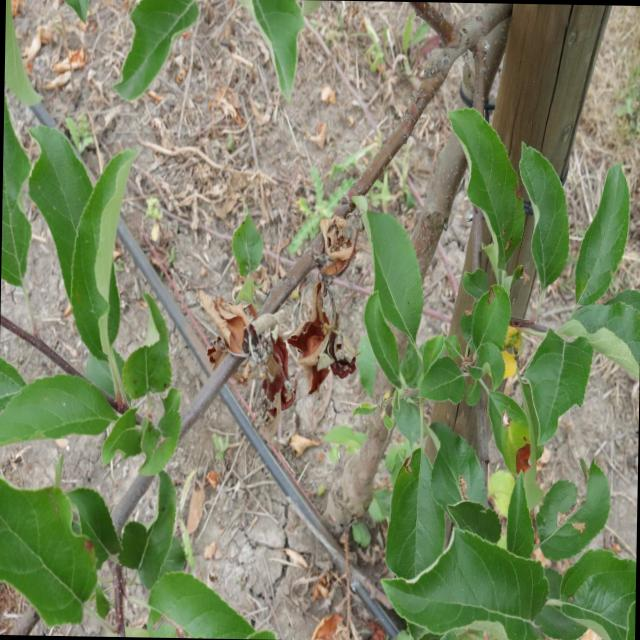-FireBlight-: (191, 288, 354, 396)
